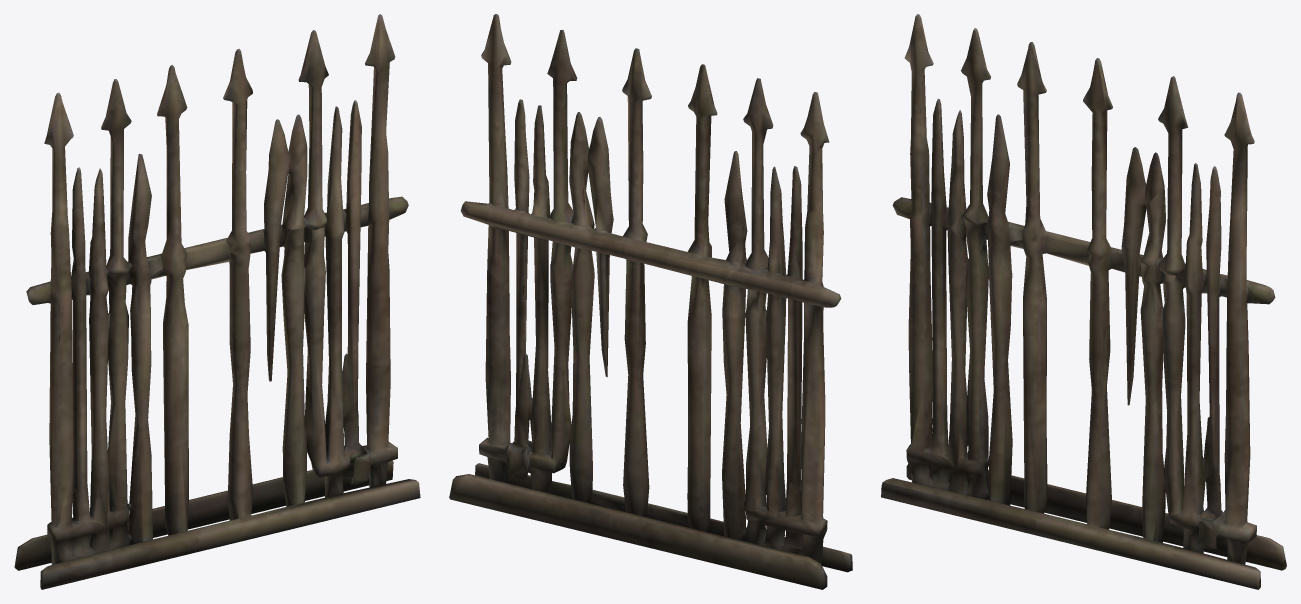
The model's file is worn-wood-weapon-rack-v001.glb.
3 views of the same model, side by side, from view 1: azimuth 30°, elevation 25°; view 2: azimuth 150°, elevation 25°; view 3: azimuth 330°, elevation 25° (orthographic).
Visible parts, largest first — view 1: worn-wood-weapon-rack; view 2: worn-wood-weapon-rack; view 3: worn-wood-weapon-rack.
Part boxes in pixels (<box>): worn-wood-weapon-rack: <box>14,14,420,589</box>; worn-wood-weapon-rack: <box>449,14,852,589</box>; worn-wood-weapon-rack: <box>881,14,1286,589</box>.
Size of the model in its own units: 1.31 by 1.6 by 0.1897.
1 material, 1 textured.
